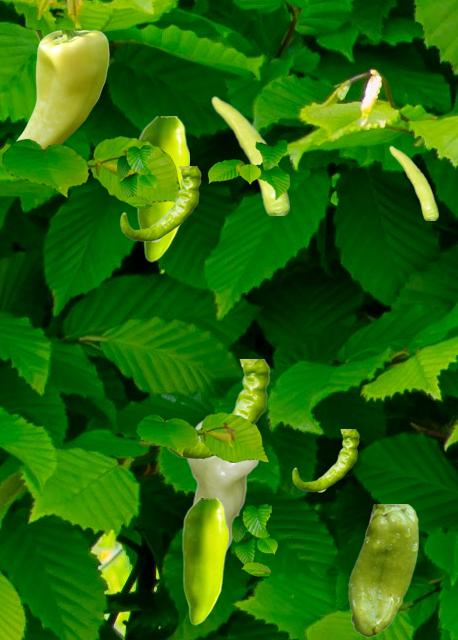green_chili: (16, 30, 108, 148), (166, 359, 269, 459), (186, 415, 259, 549), (211, 95, 288, 214), (348, 504, 417, 636), (136, 116, 188, 261), (120, 166, 200, 241), (182, 498, 227, 624), (292, 429, 358, 491), (389, 145, 437, 219)
